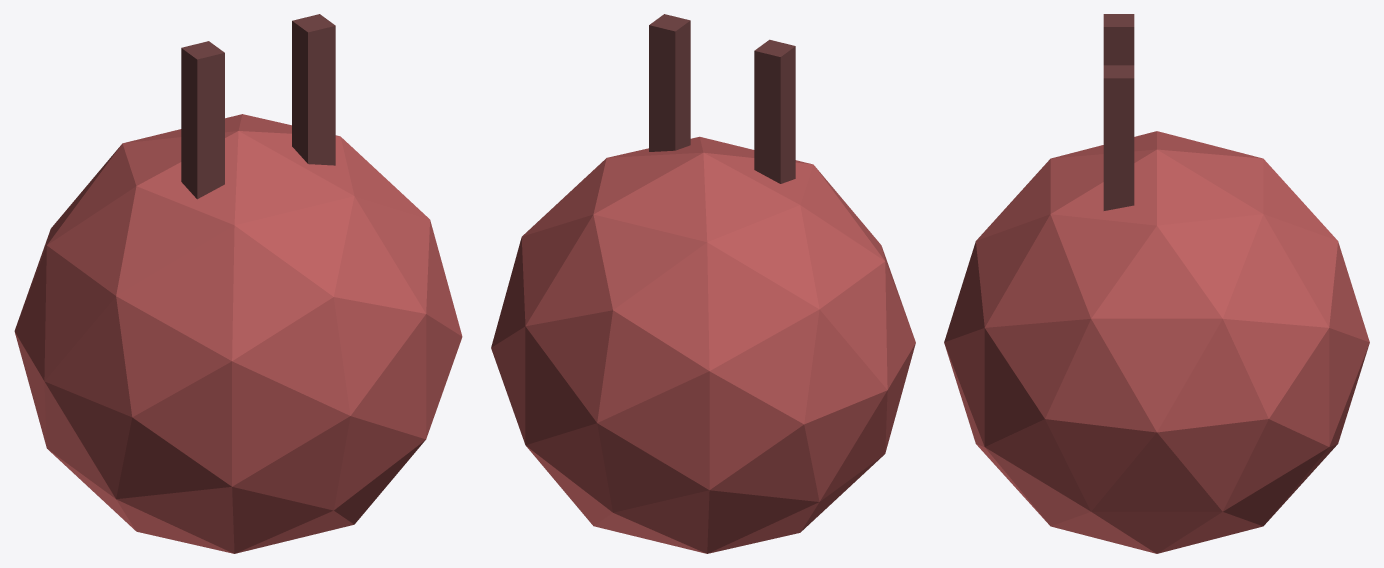
File: pet_t7.glb
3 views of the same model, side by side, from view 1: azimuth 30°, elevation 25°; view 2: azimuth 150°, elevation 25°; view 3: azimuth 270°, elevation 25° (orthographic). The views are drawn at different scales.
Parts seen in each view (by area): view 1: geometry_0; view 2: geometry_0; view 3: geometry_0.
Boxes of the visible parts, x1,y1,x2,y2 form: geometry_0: [14, 14, 462, 553]; geometry_0: [491, 14, 915, 553]; geometry_0: [944, 14, 1369, 553].
Size of the model in its own units: 0.56 by 0.71 by 0.56.
